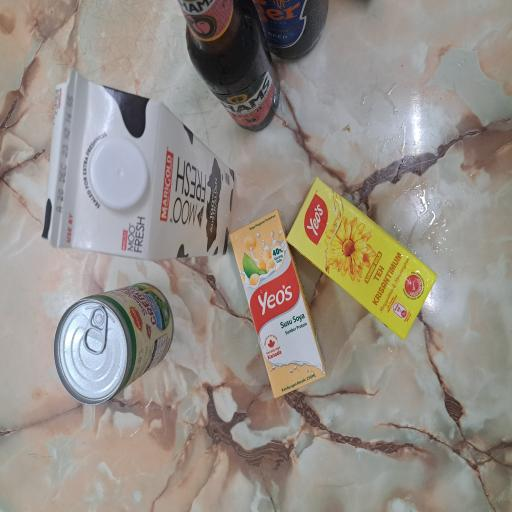can: (80, 67, 172, 235)
drink carton: (188, 54, 328, 315), (86, 308, 226, 432), (130, 379, 250, 512)
glass bottle: (285, 232, 384, 372)
plastic bottle cap: (226, 118, 283, 200)
pop tab: (118, 108, 155, 144)
